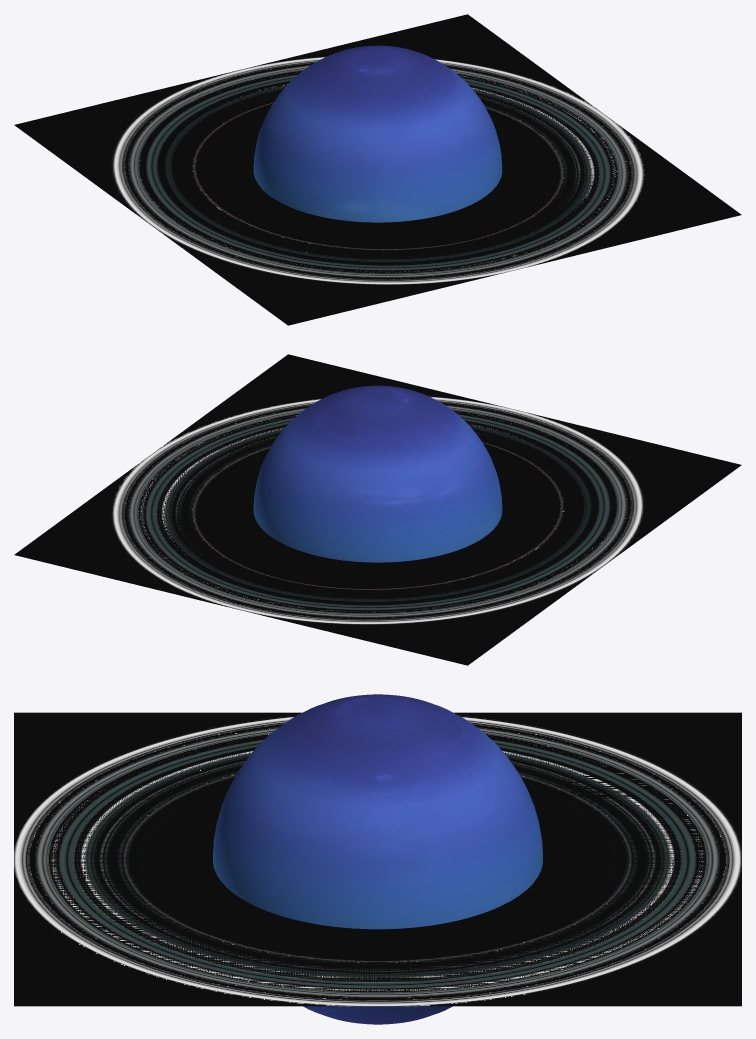
File: neptune.glb
3 views of the same model, one above another, from view 1: azimuth 30°, elevation 25°; view 2: azimuth 150°, elevation 25°; view 3: azimuth 270°, elevation 25° (orthographic). The views are drawn at different scales.
Visible parts, largest first — view 1: photodraw.ru-new.002, Earth, photodraw.ru-new; view 2: photodraw.ru-new.002, Earth, photodraw.ru-new; view 3: photodraw.ru-new.002, Earth, photodraw.ru-new, photodraw.ru-new.001.
Boxes of the visible parts, x1=… form: photodraw.ru-new.002: x1=14, y1=14, x2=741, y2=325; Earth: x1=253, y1=45, x2=502, y2=222; photodraw.ru-new: x1=227, y1=84, x2=594, y2=202; photodraw.ru-new.002: x1=14, y1=354, x2=741, y2=665; Earth: x1=253, y1=385, x2=502, y2=562; photodraw.ru-new: x1=161, y1=425, x2=522, y2=554; photodraw.ru-new.002: x1=14, y1=712, x2=741, y2=1006; Earth: x1=213, y1=694, x2=542, y2=1024; photodraw.ru-new: x1=80, y1=750, x2=674, y2=979; photodraw.ru-new.001: x1=50, y1=745, x2=704, y2=990.
Bounding box in the file's own units: 4.21 × 2 × 4.41.
4 materials, 4 textured.
